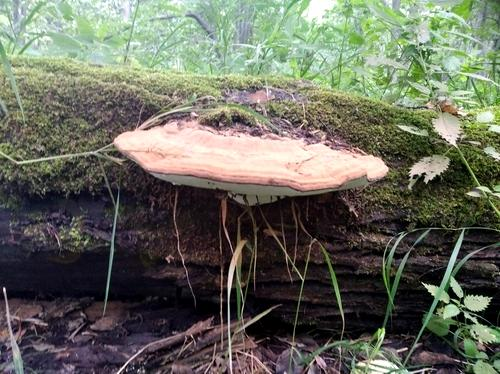Ganoderma - Fruit Body: (114, 118, 390, 203)
